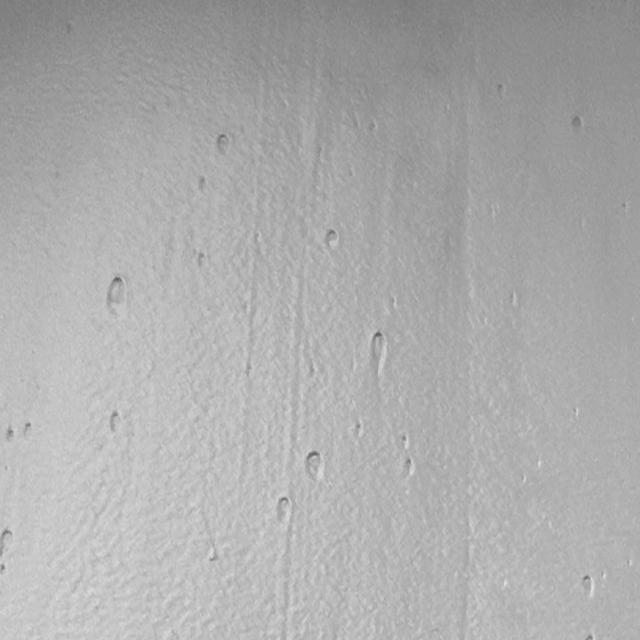pin holes: (104, 273, 133, 320), (366, 332, 390, 372), (303, 449, 327, 484), (274, 495, 294, 525), (106, 410, 128, 437), (579, 571, 598, 600), (321, 228, 342, 254), (212, 132, 233, 158), (0, 529, 18, 559), (570, 114, 586, 138), (402, 458, 417, 480), (196, 175, 210, 197), (5, 426, 20, 446), (195, 252, 210, 272), (496, 82, 510, 101), (508, 291, 521, 310), (350, 421, 364, 438), (400, 433, 413, 451), (368, 119, 380, 138), (571, 405, 584, 422), (389, 295, 401, 313), (24, 421, 36, 438), (518, 471, 530, 488), (62, 21, 74, 37), (624, 555, 635, 570), (0, 563, 9, 581), (584, 630, 598, 640), (1, 463, 9, 476)
